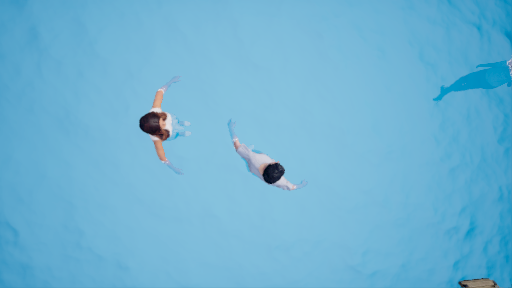person: (224, 121, 305, 200), (138, 77, 197, 180)
